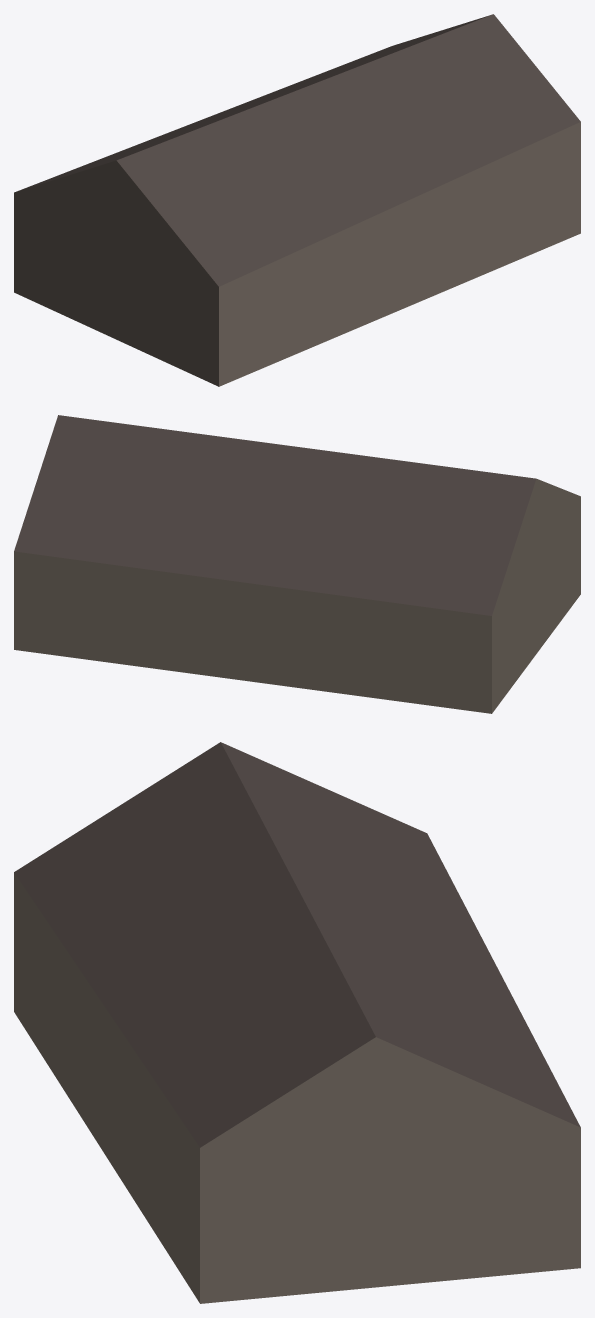
The picture shows the model from 3 angles, top to bottom: view 1: azimuth 30°, elevation 25°; view 2: azimuth 150°, elevation 25°; view 3: azimuth 270°, elevation 25°; orthographic projection. The views are drawn at different scales.
Visible parts, largest first — view 1: HP-w858807484; view 2: HP-w858807484; view 3: HP-w858807484.
Boxes of the visible parts, <box> form: HP-w858807484: <box>14,14,580,386</box>; HP-w858807484: <box>14,415,580,713</box>; HP-w858807484: <box>14,742,580,1303</box>.
Bounding box in the file's own units: 15.26 × 5.38 × 11.04.
